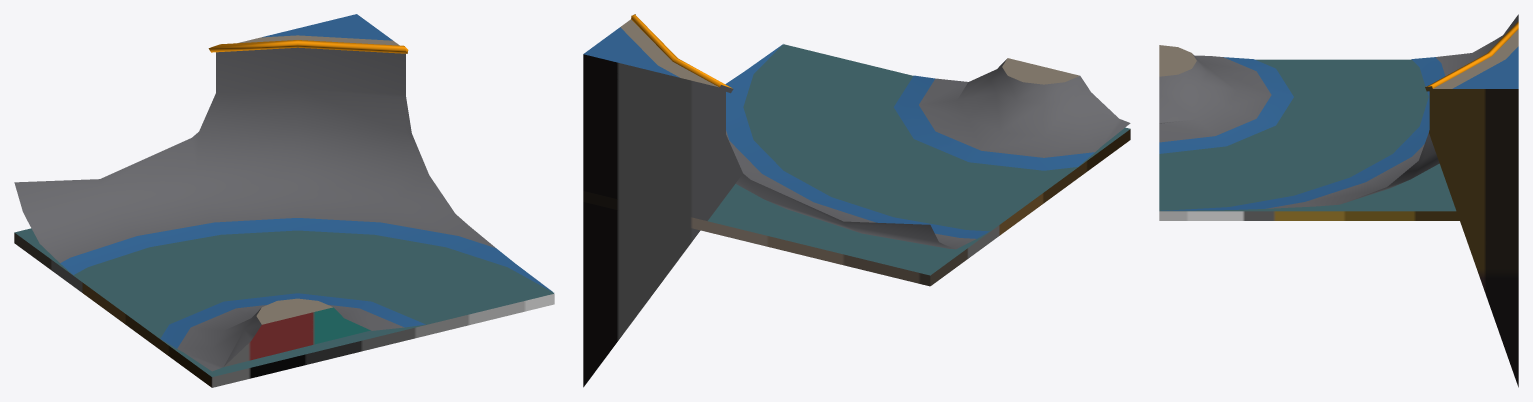
The model's file is tile_10_0_9.gltf.
3 views of the same model, side by side, from view 1: azimuth 30°, elevation 25°; view 2: azimuth 150°, elevation 25°; view 3: azimuth 270°, elevation 25° (orthographic). The views are drawn at different scales.
Visible parts, largest first — view 1: pipe.main, ground, pipe.main.rim; view 2: pipe.main, ground, pipe.main.rim; view 3: pipe.main, ground, pipe.main.rim.
Part boxes in pixels (x1,y1,x2,y2): pipe.main: [14, 14, 553, 371]; ground: [14, 228, 554, 387]; pipe.main.rim: [208, 40, 408, 53]; pipe.main: [583, 19, 1130, 387]; ground: [583, 44, 1130, 286]; pipe.main.rim: [631, 14, 733, 93]; pipe.main: [1159, 14, 1518, 387]; ground: [1159, 59, 1459, 220]; pipe.main.rim: [1425, 21, 1518, 91].
Size of what is drawn, in the model's own units: 8 by 7.42 by 8.
1 material, 1 textured.
